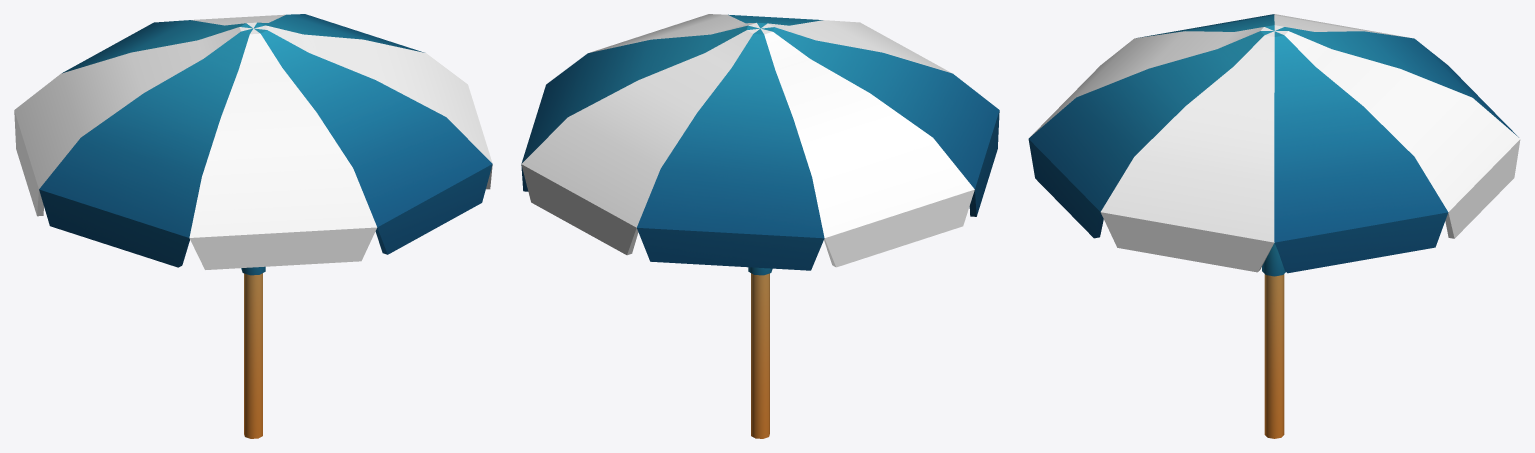
File: ENV_Umbrella.fbx
3 views of the same model, side by side, from view 1: azimuth 30°, elevation 25°; view 2: azimuth 150°, elevation 25°; view 3: azimuth 270°, elevation 25° (orthographic).
Visible parts, largest first — view 1: UmbrellaTop, UmbrellaPole; view 2: UmbrellaTop, UmbrellaPole; view 3: UmbrellaTop, UmbrellaPole.
Boxes of the visible parts, x1,y1,x2,y2 form: UmbrellaTop: (14, 14, 492, 269); UmbrellaPole: (241, 266, 265, 438); UmbrellaTop: (521, 14, 999, 270); UmbrellaPole: (748, 267, 772, 438); UmbrellaTop: (1028, 14, 1520, 273); UmbrellaPole: (1262, 243, 1285, 438).
Bounding box in the file's own units: 360 × 326 × 360.
